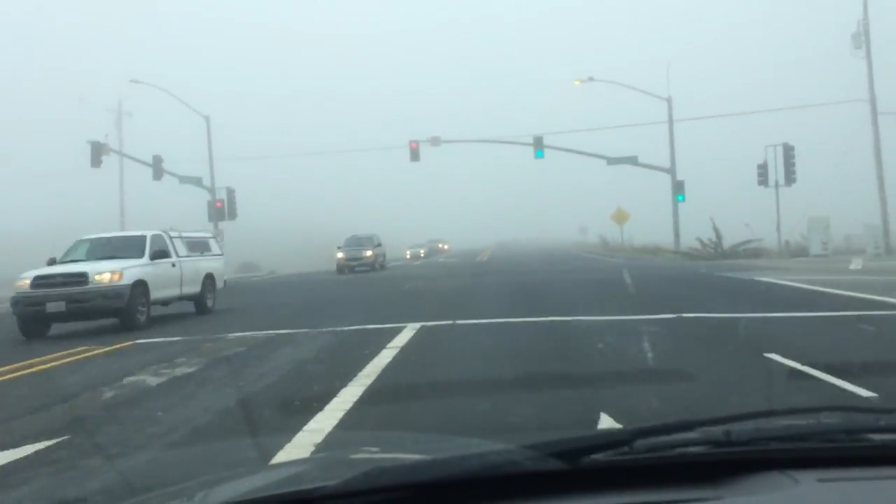car: (8, 227, 226, 339), (334, 232, 387, 273), (405, 242, 429, 260), (431, 237, 451, 254)
